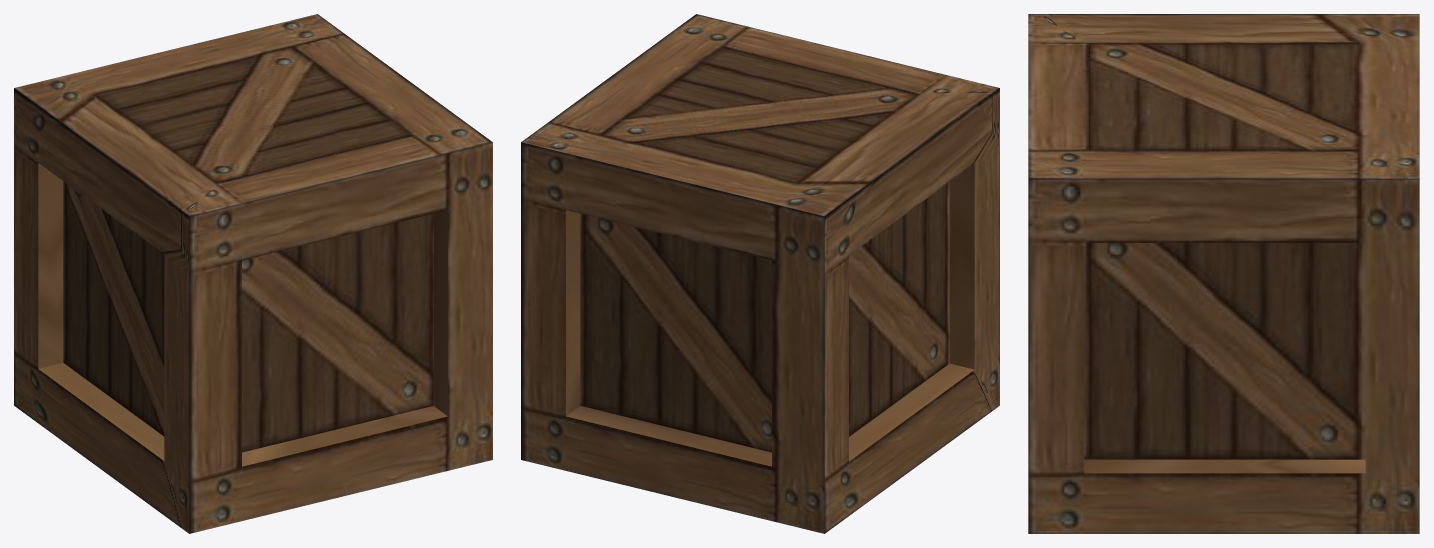
Rendered from kutu.fbx.
3 views of the same model, side by side, from view 1: azimuth 30°, elevation 25°; view 2: azimuth 150°, elevation 25°; view 3: azimuth 270°, elevation 25° (orthographic). The views are drawn at different scales.
Parts seen in each view (by area): view 1: Cube; view 2: Cube; view 3: Cube.
Part boxes in pixels (x1,y1,x2,y2): Cube: (14, 14, 492, 533); Cube: (521, 14, 999, 533); Cube: (1028, 14, 1419, 533).
Size of the model in its own units: 200 by 200 by 200.
